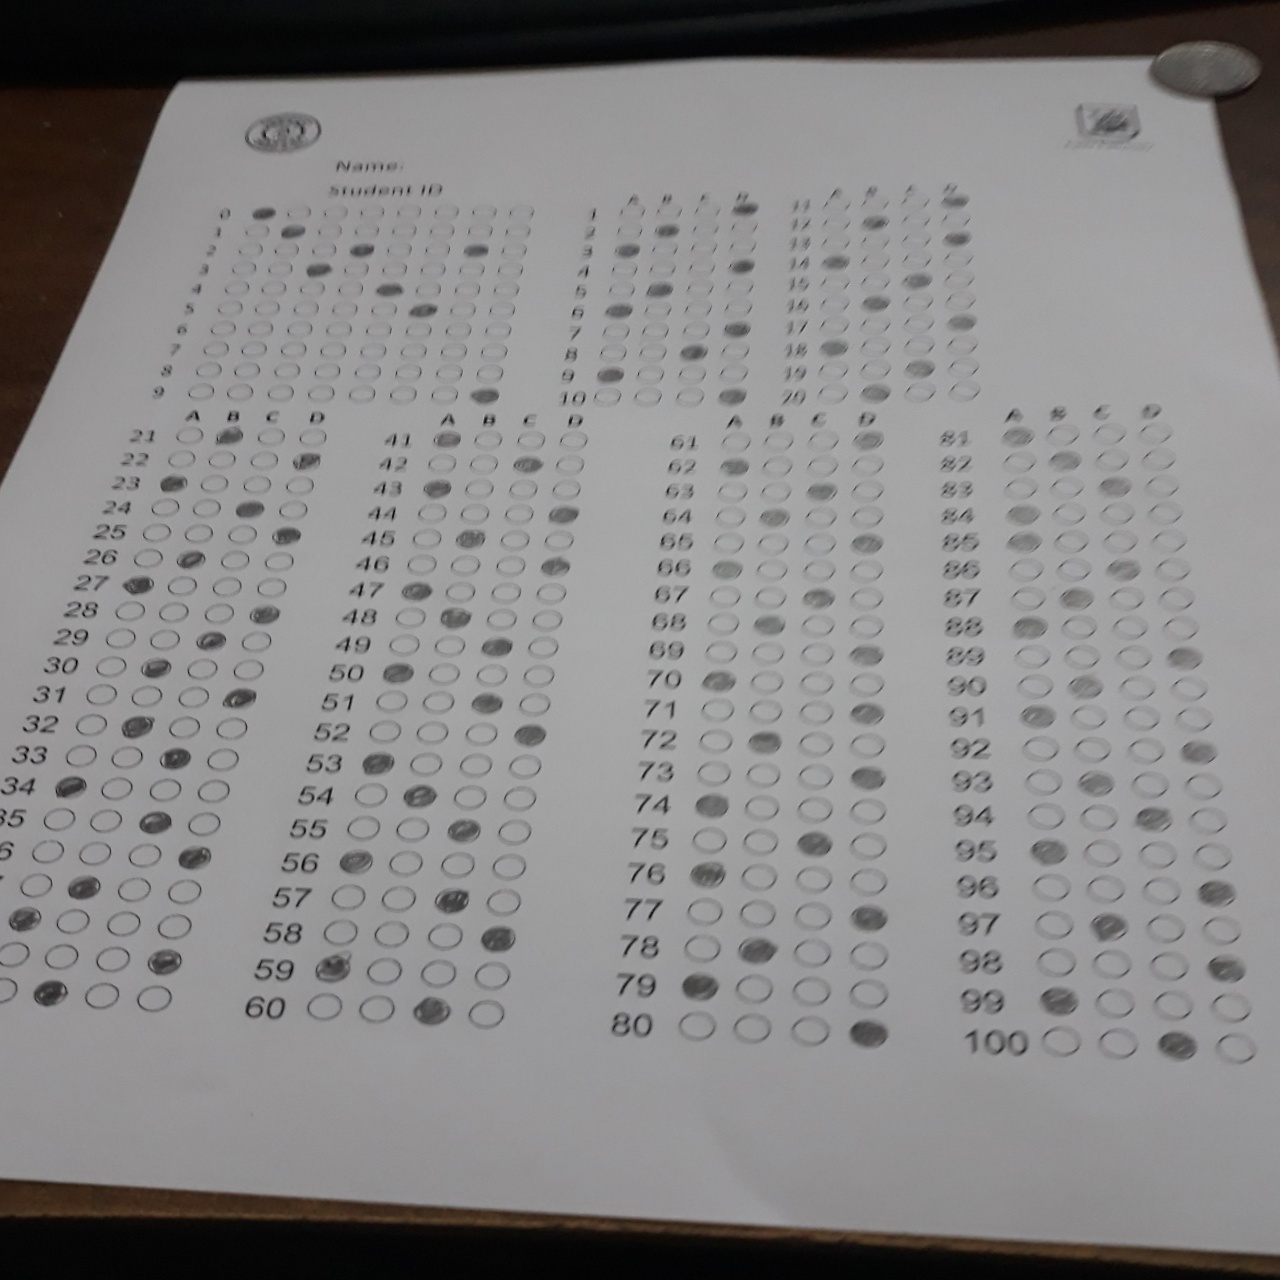not-c: (674, 1008, 722, 1044), (678, 931, 726, 966), (790, 937, 836, 971), (730, 1014, 775, 1048), (1095, 1028, 1141, 1061), (1041, 1021, 1082, 1057), (1141, 874, 1184, 908), (1144, 911, 1187, 945), (1150, 989, 1193, 1023), (788, 1016, 832, 1049), (1192, 840, 1234, 874), (1146, 949, 1189, 983), (1187, 804, 1228, 838), (1092, 447, 1135, 478), (1089, 418, 1131, 450), (1043, 420, 1085, 451), (738, 790, 782, 821), (795, 761, 838, 791), (1162, 610, 1200, 644), (1107, 583, 1148, 614), (1121, 704, 1162, 736), (1095, 986, 1137, 1016), (736, 972, 778, 1002), (683, 896, 726, 926), (736, 898, 778, 928), (844, 829, 886, 859), (795, 794, 837, 824), (1169, 674, 1211, 704), (1111, 644, 1153, 674), (1130, 771, 1172, 802), (1213, 1033, 1257, 1062), (736, 826, 779, 856), (695, 758, 738, 788), (1139, 840, 1179, 872), (1210, 993, 1251, 1023), (795, 864, 836, 894), (1109, 613, 1150, 644), (1117, 674, 1158, 704), (1175, 704, 1216, 735), (1125, 736, 1166, 767), (845, 979, 887, 1008), (792, 976, 835, 1006), (789, 900, 831, 930), (689, 825, 731, 855), (792, 726, 835, 755), (846, 730, 888, 760), (740, 760, 783, 788), (847, 939, 888, 968), (845, 795, 886, 824), (697, 726, 738, 755), (846, 869, 888, 897), (740, 862, 782, 890), (697, 694, 736, 724), (796, 694, 835, 724), (846, 667, 885, 697), (471, 959, 511, 988), (465, 998, 505, 1027), (306, 992, 346, 1021), (41, 941, 81, 971), (97, 942, 137, 972), (1092, 949, 1133, 978), (745, 695, 787, 723), (114, 874, 155, 903), (421, 956, 459, 986), (358, 995, 396, 1024), (81, 982, 120, 1012), (1139, 445, 1179, 474), (1085, 874, 1126, 901), (1035, 910, 1076, 937), (755, 454, 796, 481), (163, 874, 204, 901), (1141, 474, 1182, 501), (105, 908, 144, 937), (1081, 840, 1121, 867), (14, 870, 54, 897), (847, 557, 888, 583), (799, 502, 840, 527), (1032, 873, 1070, 900), (1037, 949, 1076, 976), (803, 554, 842, 581), (135, 983, 173, 1010), (52, 908, 90, 935), (123, 842, 162, 869), (1137, 421, 1176, 448), (1145, 501, 1184, 527), (1155, 557, 1193, 584), (1157, 585, 1196, 612), (699, 638, 738, 663), (799, 611, 839, 636), (701, 610, 741, 635), (753, 584, 792, 610), (847, 584, 887, 610), (749, 527, 789, 553), (801, 529, 840, 554), (709, 503, 749, 529), (709, 477, 749, 503), (753, 479, 792, 505), (799, 452, 839, 478), (155, 913, 195, 939), (1149, 530, 1189, 556), (1203, 918, 1244, 942), (756, 428, 797, 452), (1077, 803, 1116, 829), (797, 667, 836, 693), (799, 640, 838, 666), (847, 479, 886, 505), (846, 452, 885, 478), (715, 430, 754, 456), (1029, 802, 1064, 830), (750, 639, 790, 663), (845, 613, 885, 638), (707, 583, 747, 607), (798, 431, 838, 456), (91, 652, 128, 679), (749, 668, 788, 693), (753, 556, 791, 580), (708, 530, 747, 554), (1185, 772, 1220, 799), (331, 881, 366, 908), (367, 956, 402, 983), (32, 837, 67, 864), (188, 806, 223, 833), (183, 654, 218, 681), (346, 811, 382, 837), (395, 815, 431, 840), (489, 853, 525, 879), (389, 851, 425, 877), (380, 885, 416, 911), (427, 922, 463, 948), (42, 806, 79, 832), (87, 806, 123, 832), (196, 778, 232, 804), (98, 776, 135, 802), (203, 744, 239, 770), (88, 681, 124, 707), (173, 682, 210, 708), (1024, 768, 1060, 794), (846, 505, 885, 529), (501, 784, 536, 810), (440, 850, 475, 876), (485, 888, 520, 914), (373, 922, 408, 948), (145, 777, 181, 803), (64, 743, 100, 769), (111, 743, 147, 769), (1075, 736, 1111, 761), (355, 782, 392, 806), (496, 819, 532, 844), (166, 714, 203, 738), (508, 754, 542, 779), (452, 782, 486, 808), (324, 919, 358, 945), (77, 838, 111, 864), (1071, 702, 1107, 727), (75, 712, 110, 736), (128, 685, 163, 709), (1022, 736, 1058, 760), (409, 751, 442, 777), (1064, 645, 1098, 669), (467, 719, 501, 743), (458, 751, 492, 776), (148, 625, 182, 649), (1019, 672, 1051, 696), (369, 720, 402, 744), (416, 720, 449, 744), (1104, 529, 1138, 552), (1055, 527, 1089, 551), (1055, 557, 1089, 580), (1017, 644, 1051, 667), (465, 454, 499, 477), (549, 477, 583, 501), (433, 632, 467, 655), (422, 692, 456, 715), (215, 714, 248, 737), (375, 688, 409, 712), (240, 628, 274, 652), (200, 600, 234, 624), (197, 470, 231, 493), (205, 447, 239, 470), (556, 428, 588, 451), (512, 427, 545, 450), (488, 579, 520, 602), (486, 606, 519, 629), (516, 693, 549, 716), (232, 656, 265, 680), (103, 624, 136, 647), (115, 597, 148, 620), (157, 600, 190, 624), (165, 572, 198, 595), (223, 522, 256, 545), (183, 522, 216, 545), (189, 496, 222, 519), (1099, 501, 1133, 523), (1010, 558, 1044, 580), (1012, 587, 1046, 610), (458, 502, 492, 524), (410, 526, 444, 549), (394, 605, 428, 627), (388, 633, 422, 655), (252, 574, 286, 597), (207, 573, 241, 595), (275, 498, 309, 520), (238, 474, 272, 496), (544, 527, 576, 551), (135, 544, 166, 567), (164, 447, 196, 470), (1053, 501, 1085, 523), (505, 477, 538, 499), (414, 501, 447, 523), (504, 502, 537, 524), (404, 552, 437, 574), (493, 554, 526, 577), (536, 580, 568, 602), (527, 636, 560, 659), (427, 662, 459, 685), (522, 663, 554, 686), (218, 549, 251, 571), (260, 547, 293, 570), (139, 519, 172, 542), (145, 492, 178, 515), (284, 472, 316, 495), (1003, 451, 1037, 472), (1049, 477, 1083, 498), (447, 554, 481, 576), (471, 429, 503, 451), (462, 478, 493, 501), (501, 529, 532, 551), (444, 580, 476, 602), (1061, 615, 1094, 636), (428, 452, 461, 474), (530, 608, 563, 629), (196, 338, 229, 359), (1003, 478, 1037, 498), (553, 452, 585, 474), (477, 663, 509, 685), (186, 379, 218, 400), (250, 449, 281, 469), (295, 427, 326, 447), (173, 423, 204, 443), (216, 297, 246, 316), (285, 200, 315, 220), (858, 230, 888, 250), (949, 379, 980, 399), (254, 425, 284, 445), (192, 358, 222, 377), (207, 316, 237, 336), (678, 362, 707, 382), (818, 354, 847, 374), (821, 270, 850, 290), (823, 211, 853, 230), (905, 382, 935, 401), (904, 291, 934, 309), (901, 250, 932, 268), (941, 209, 972, 227), (942, 248, 973, 267), (945, 291, 975, 309), (947, 334, 978, 353), (470, 200, 497, 222), (279, 338, 307, 358), (291, 297, 319, 316), (308, 383, 336, 403), (349, 383, 377, 403), (676, 386, 704, 406), (682, 319, 710, 339), (219, 277, 248, 295), (236, 237, 265, 256), (682, 297, 712, 315), (685, 275, 714, 294), (686, 237, 715, 256), (817, 384, 846, 403), (859, 316, 888, 335), (900, 209, 930, 227), (945, 270, 974, 288), (946, 359, 975, 377), (285, 318, 312, 338), (433, 202, 459, 222), (821, 292, 851, 309), (862, 195, 892, 212), (229, 257, 257, 275), (272, 359, 300, 377), (299, 275, 327, 294), (319, 199, 347, 218), (325, 319, 353, 338), (381, 260, 409, 279), (384, 238, 413, 257), (395, 202, 423, 220), (431, 384, 459, 403), (509, 202, 537, 220), (625, 202, 653, 220), (651, 238, 679, 257), (862, 359, 890, 377), (901, 230, 930, 248), (241, 219, 271, 237), (478, 343, 508, 361), (688, 257, 717, 274), (728, 236, 757, 253), (819, 315, 849, 333), (822, 233, 851, 251), (821, 190, 850, 207), (859, 254, 888, 272), (862, 340, 891, 358), (905, 338, 934, 355), (903, 314, 932, 332), (312, 238, 339, 257), (316, 218, 343, 237), (358, 199, 384, 218), (352, 220, 379, 239), (331, 299, 358, 318), (315, 361, 342, 380), (354, 360, 381, 379), (361, 340, 388, 359), (365, 320, 392, 339), (339, 279, 367, 297), (316, 341, 345, 359), (370, 301, 399, 319), (392, 218, 420, 236), (436, 363, 464, 381), (451, 280, 479, 298), (505, 222, 533, 239), (475, 365, 503, 382), (594, 386, 622, 403), (599, 343, 627, 361), (601, 322, 629, 340), (607, 277, 635, 294), (618, 220, 646, 238), (659, 203, 687, 220), (638, 347, 666, 365), (634, 387, 662, 404), (860, 275, 888, 293), (901, 188, 930, 205), (428, 222, 454, 240), (389, 386, 418, 402), (695, 200, 724, 217), (728, 216, 757, 232), (721, 341, 750, 358), (267, 258, 294, 275), (259, 279, 286, 297), (239, 340, 266, 358), (265, 382, 292, 400), (342, 260, 369, 278), (493, 280, 520, 298), (644, 322, 670, 340), (400, 343, 430, 359), (395, 363, 425, 379), (234, 361, 263, 377), (444, 322, 472, 339), (450, 300, 478, 316), (469, 222, 497, 238), (497, 263, 525, 279), (486, 301, 515, 318), (485, 322, 513, 339), (612, 259, 640, 275), (648, 260, 676, 277), (638, 369, 666, 386), (726, 277, 754, 293), (726, 299, 754, 315), (721, 363, 750, 379), (272, 239, 299, 256), (253, 300, 280, 316), (229, 382, 256, 399), (440, 342, 467, 359), (459, 261, 486, 278), (501, 241, 527, 258), (644, 302, 670, 319), (692, 219, 720, 234), (247, 321, 273, 338), (425, 241, 452, 257), (420, 261, 447, 277), (415, 281, 442, 297), (404, 324, 431, 339)
taken-c: (1150, 1026, 1200, 1065), (790, 828, 835, 862), (737, 933, 779, 967), (32, 978, 72, 1012), (1039, 983, 1080, 1015), (846, 1017, 887, 1049), (692, 788, 733, 819), (847, 639, 888, 670), (700, 666, 741, 697), (313, 952, 354, 983), (847, 903, 887, 934), (749, 721, 789, 753), (688, 858, 729, 888), (845, 764, 886, 795), (847, 697, 888, 728), (1103, 553, 1145, 583), (332, 846, 374, 874), (410, 998, 452, 1026), (1089, 913, 1129, 942), (1194, 878, 1234, 907), (680, 969, 720, 999), (430, 884, 471, 912), (66, 872, 103, 903), (474, 922, 516, 949), (176, 843, 215, 872), (1178, 738, 1219, 765), (1206, 954, 1244, 983), (147, 948, 184, 978), (4, 903, 41, 932), (1056, 584, 1098, 610), (134, 806, 172, 835), (54, 770, 90, 799), (155, 747, 191, 776), (1133, 808, 1175, 833), (1027, 838, 1068, 864), (116, 710, 154, 738), (210, 422, 248, 449), (1071, 771, 1114, 796), (1065, 673, 1107, 697), (1095, 474, 1135, 498), (1001, 501, 1041, 525), (1016, 704, 1056, 729), (286, 449, 324, 475), (1165, 645, 1204, 669), (802, 478, 837, 505), (1047, 449, 1087, 472), (998, 422, 1037, 445), (847, 425, 881, 452), (222, 683, 256, 710), (244, 598, 278, 625), (1012, 615, 1051, 638), (229, 497, 266, 520), (150, 470, 188, 493), (802, 585, 836, 611), (751, 613, 785, 639), (710, 554, 744, 580), (849, 533, 883, 559), (756, 501, 790, 526), (136, 654, 170, 680), (193, 625, 227, 651), (418, 476, 454, 501), (454, 527, 489, 552), (397, 578, 433, 602), (1015, 532, 1054, 554), (715, 452, 748, 478), (121, 572, 154, 598), (543, 502, 577, 526), (379, 662, 413, 687), (362, 750, 396, 775), (173, 547, 207, 572), (429, 424, 464, 448), (539, 554, 574, 578), (437, 606, 472, 629), (479, 634, 515, 658), (471, 690, 506, 714), (402, 785, 437, 809), (447, 821, 482, 844), (939, 229, 978, 250), (266, 524, 302, 546), (515, 724, 549, 748), (941, 311, 980, 331), (935, 189, 974, 209), (509, 451, 542, 475), (860, 292, 894, 314), (859, 384, 892, 406), (246, 203, 278, 223), (594, 365, 627, 382), (676, 342, 709, 360), (717, 388, 750, 406), (721, 320, 754, 338), (901, 271, 932, 290), (821, 252, 855, 268), (461, 241, 490, 260), (647, 220, 680, 237), (645, 280, 678, 297), (724, 257, 757, 273), (828, 340, 860, 356), (469, 387, 499, 404), (906, 361, 937, 379), (599, 302, 631, 319), (613, 239, 645, 256), (731, 197, 763, 213), (347, 241, 375, 259), (860, 215, 888, 232), (302, 261, 334, 275), (374, 282, 406, 297), (406, 302, 436, 316), (274, 225, 304, 238)
